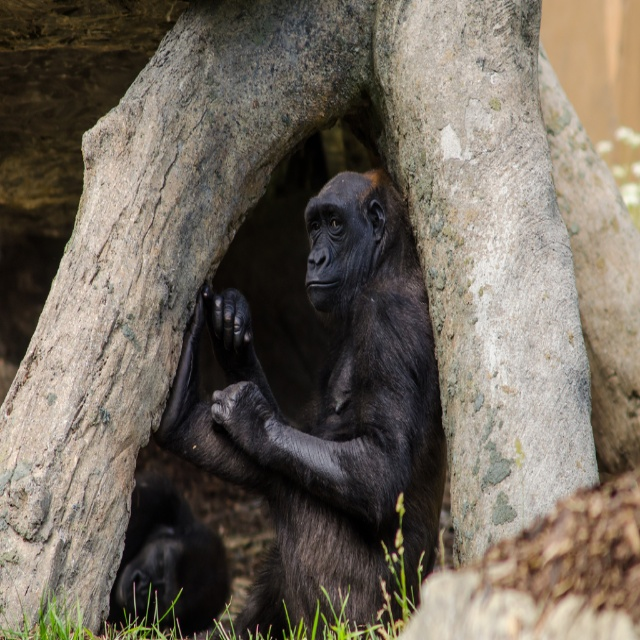Monkey: (149, 152, 438, 625)
